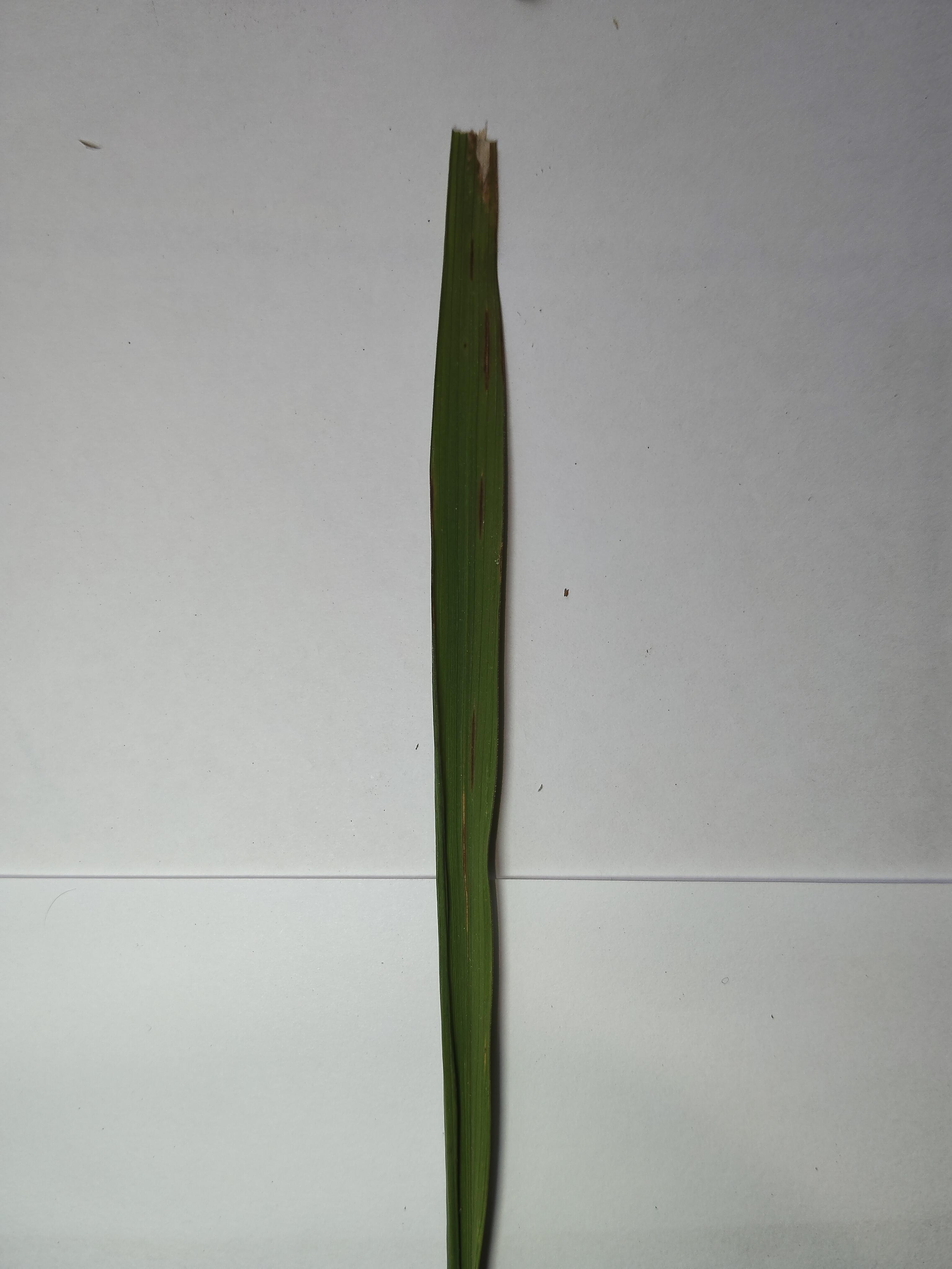NBS: (484, 312, 490, 390), (471, 710, 475, 789), (479, 480, 483, 540), (463, 821, 466, 876), (470, 239, 474, 280)
